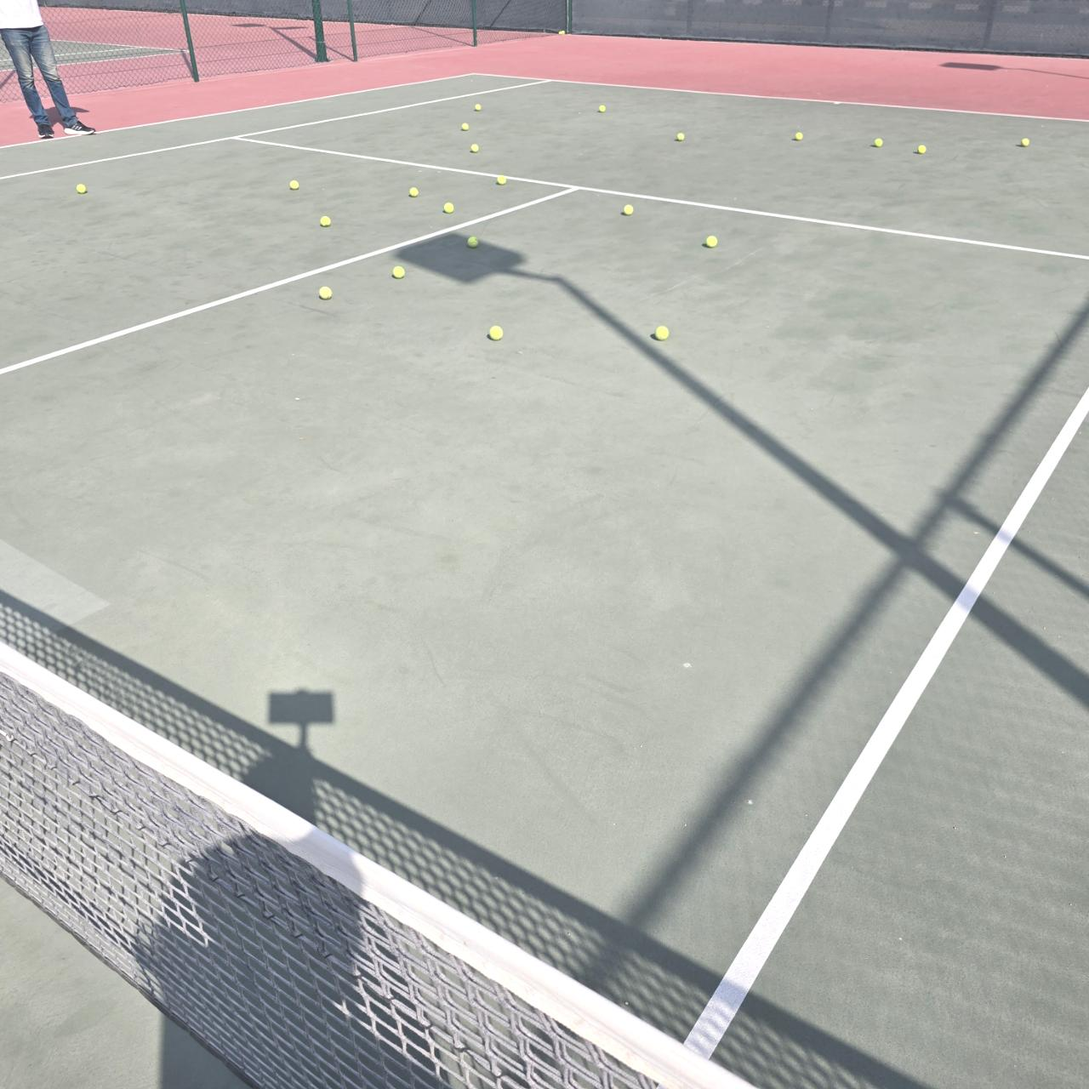tennis-ball: (654, 325, 670, 340), (702, 233, 717, 248), (489, 325, 503, 340), (392, 266, 406, 279), (318, 286, 332, 299), (467, 235, 479, 248), (320, 215, 331, 227), (443, 202, 454, 214), (288, 180, 299, 191), (623, 205, 634, 216), (76, 184, 86, 194), (409, 187, 419, 197), (497, 175, 506, 185), (874, 138, 883, 148), (917, 145, 927, 154), (471, 144, 480, 153), (795, 132, 804, 141), (1021, 138, 1030, 147), (474, 104, 482, 112), (677, 133, 685, 141), (462, 123, 469, 131), (599, 105, 606, 112), (559, 30, 565, 35)
